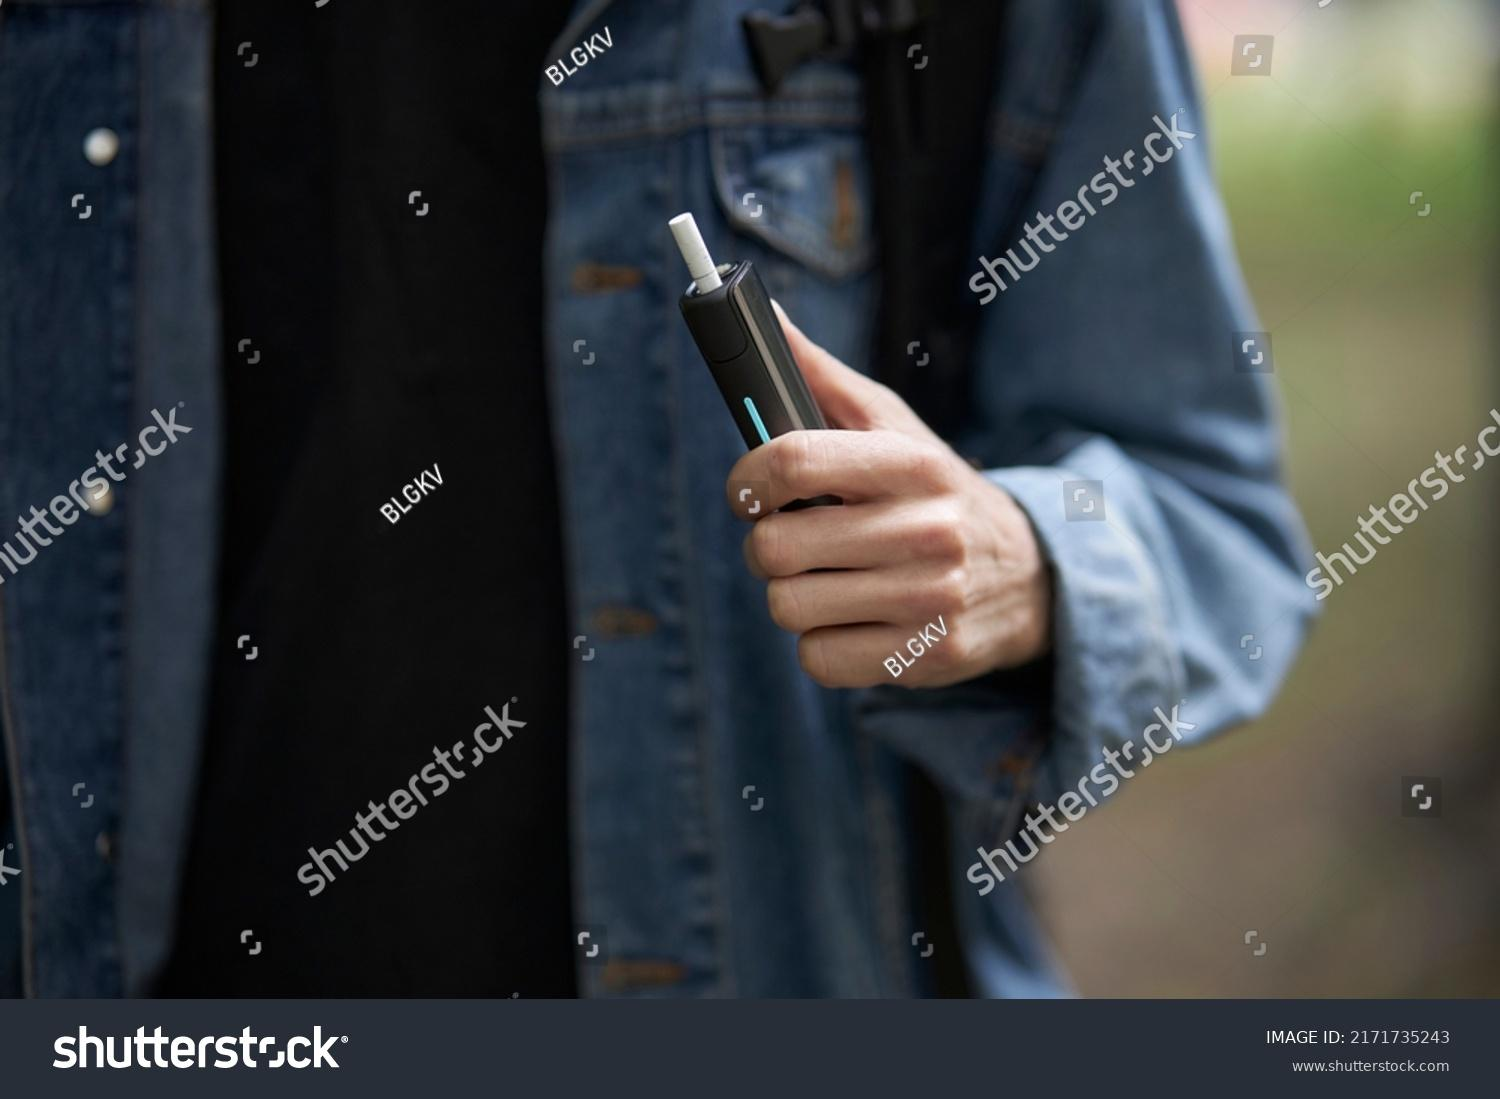iqos: (670, 212, 825, 448)
